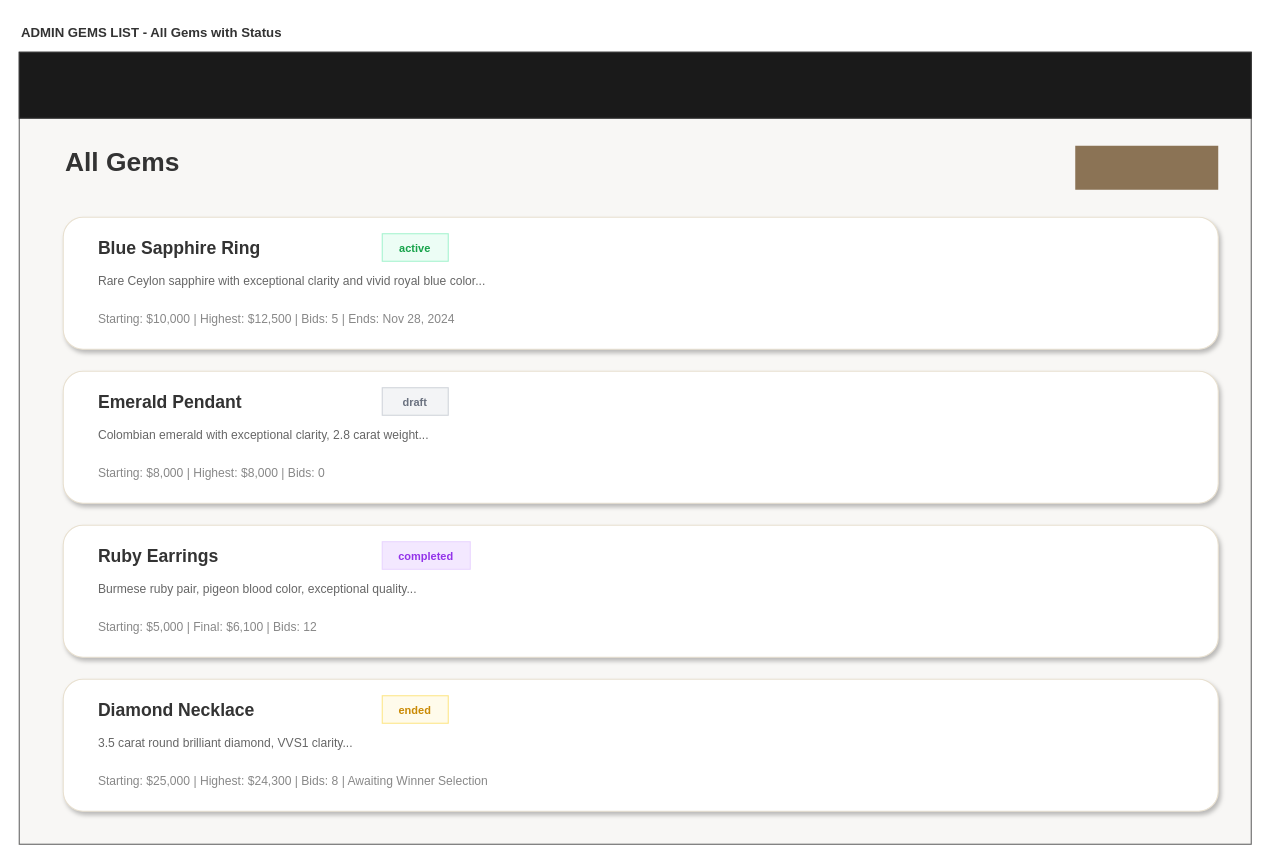
This 1271x864 diagram has some shape labels left out. Each missing label, with the centre of its shape:
"LUXBID Reserve" goes at pixel 634 84.
"New Gem" goes at pixel 1146 167.
